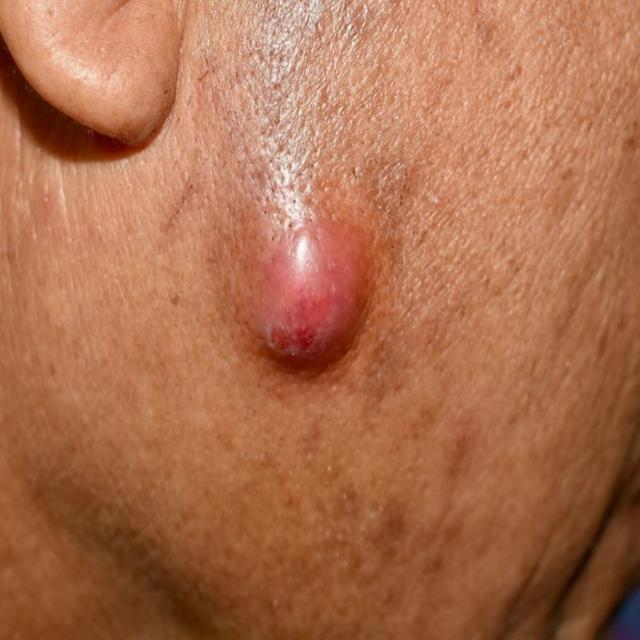nodule: (202, 164, 402, 426)
